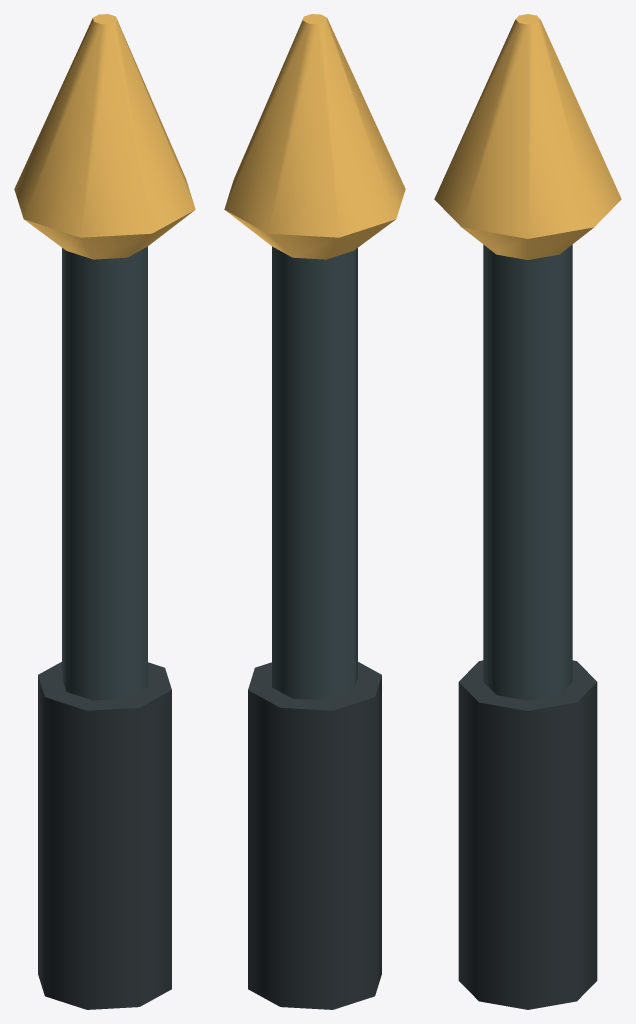
3 renders of one model, left to right at view 1: azimuth 30°, elevation 25°; view 2: azimuth 150°, elevation 25°; view 3: azimuth 270°, elevation 25°, orthographic.
Visible parts, largest first — view 1: wl03_a001; view 2: wl03_a001; view 3: wl03_a001.
Boxes of the visible parts, box(x1,y1,x2,y2) form: wl03_a001: box(14, 14, 195, 1009); wl03_a001: box(224, 14, 405, 1009); wl03_a001: box(434, 14, 621, 1009).
Bounding box in the file's own units: 12.25 × 69.26 × 12.25.
